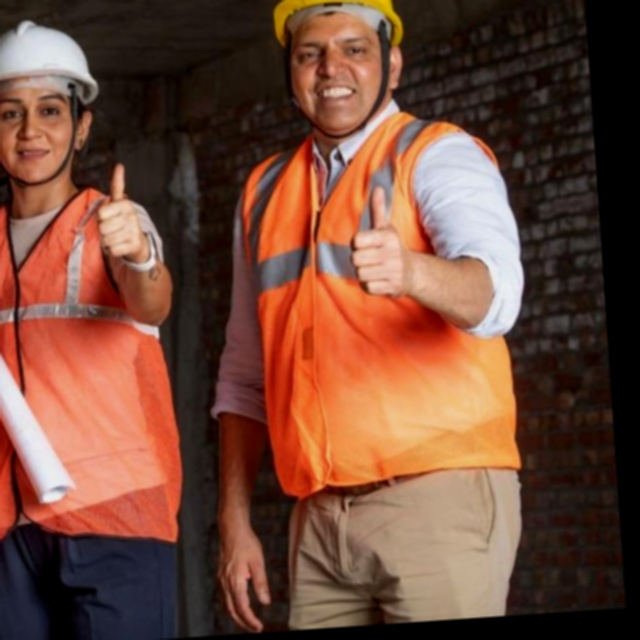Con_Casco: (269, 0, 408, 136), (0, 17, 101, 182)
Con_Chaleco: (236, 115, 524, 501), (0, 185, 177, 543)
